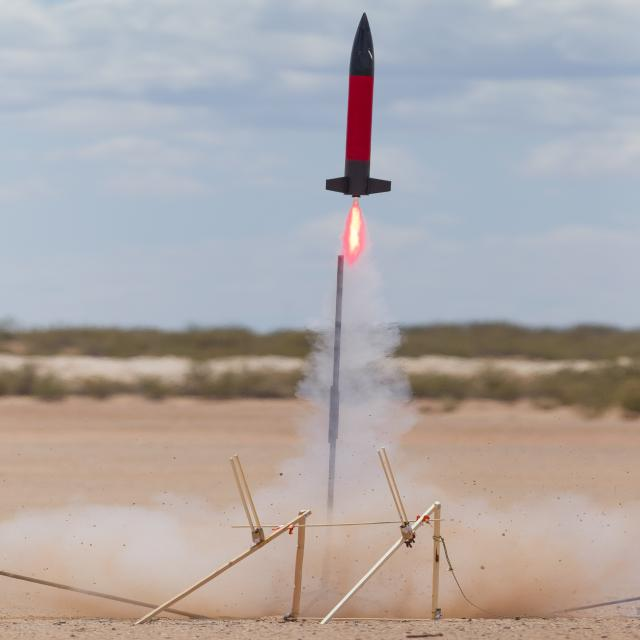Rocket: (324, 12, 394, 200)
